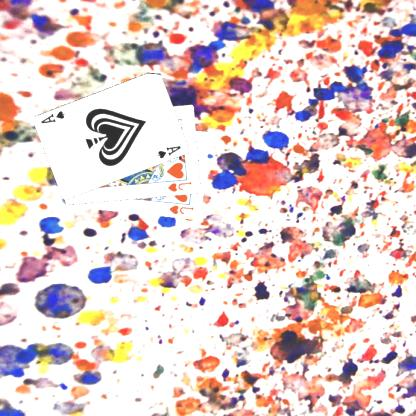AS: (40, 108, 68, 125), (157, 143, 184, 160)
JH: (167, 179, 195, 194), (168, 202, 197, 216)
